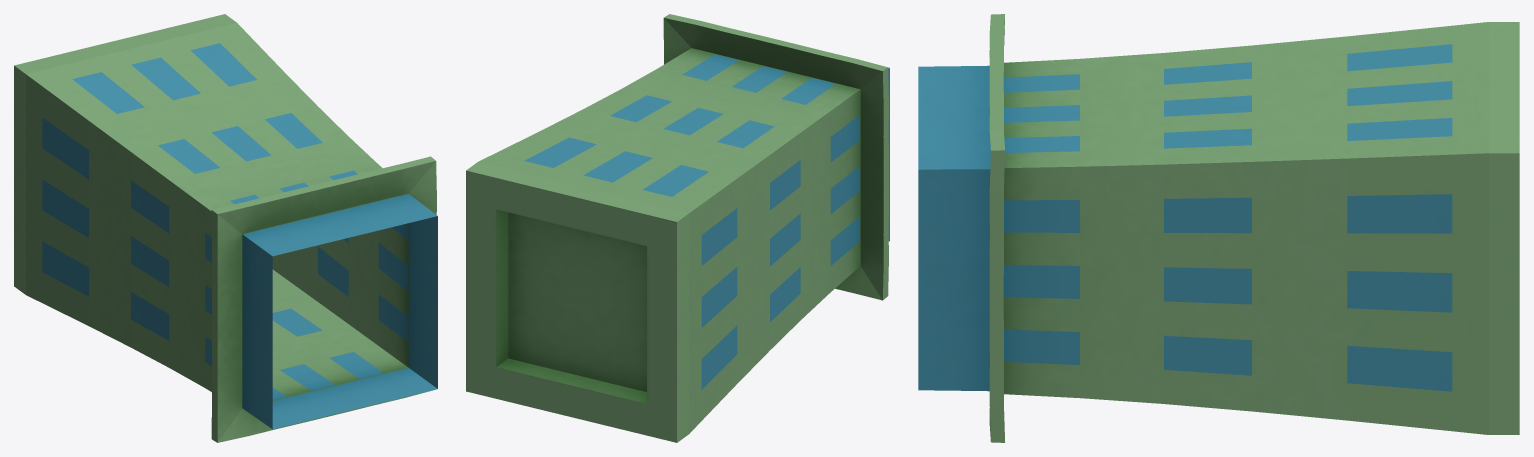
File: Mod_Buiding_var01.fbx
3 renders of one model, left to right at view 1: azimuth 30°, elevation 25°; view 2: azimuth 150°, elevation 25°; view 3: azimuth 270°, elevation 25°, orthographic. The views are drawn at different scales.
Visible parts, largest first — view 1: Mod_Building_var1; view 2: Mod_Building_var1; view 3: Mod_Building_var1.
Boxes of the visible parts, <box> form: Mod_Building_var1: <box>14,14,437,442</box>; Mod_Building_var1: <box>466,14,889,442</box>; Mod_Building_var1: <box>918,14,1519,442</box>.
Bounding box in the file's own units: 266 × 266 × 494.
Materials: 1 (1 with a texture image).
